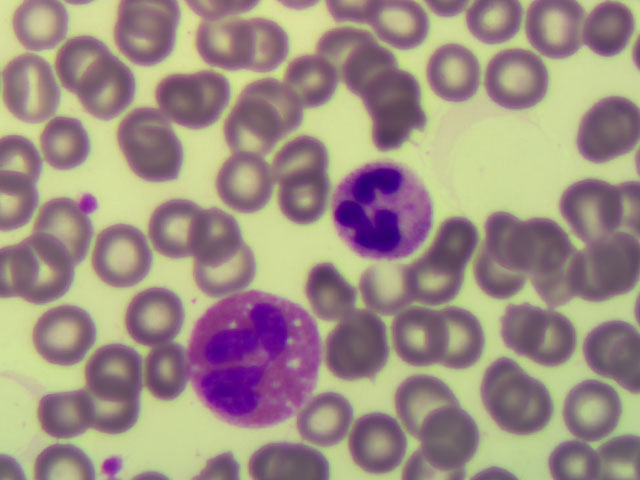Platelets: (96, 454, 130, 480), (79, 192, 103, 212)
RBC: (7, 60, 61, 111), (55, 30, 109, 81), (82, 70, 136, 121), (42, 116, 96, 167), (39, 203, 93, 254), (29, 229, 83, 280), (33, 302, 87, 353), (81, 341, 135, 392), (90, 378, 144, 429), (47, 385, 101, 436), (135, 350, 189, 401), (127, 285, 181, 336), (99, 229, 153, 280), (146, 203, 200, 254), (181, 208, 235, 259), (201, 241, 255, 292), (217, 160, 271, 211), (214, 113, 268, 164), (242, 79, 296, 130), (280, 51, 334, 102), (316, 18, 370, 69), (343, 36, 397, 87), (364, 63, 418, 114), (368, 103, 422, 154), (181, 79, 235, 130), (141, 64, 195, 115), (120, 106, 174, 157), (131, 134, 185, 185), (186, 22, 240, 73), (229, 12, 283, 63), (117, 13, 171, 64), (373, 1, 427, 52), (425, 46, 479, 97), (485, 54, 539, 105), (535, 2, 589, 53), (574, 1, 628, 52), (586, 100, 640, 151), (562, 176, 616, 227), (586, 227, 640, 278), (563, 257, 617, 308), (520, 254, 574, 305), (529, 217, 583, 268), (492, 213, 546, 264), (473, 252, 527, 303), (442, 212, 496, 263), (406, 251, 460, 302), (345, 263, 399, 314), (309, 263, 363, 314), (333, 317, 387, 368), (276, 168, 330, 219), (275, 133, 329, 184), (441, 305, 495, 356), (389, 308, 443, 359), (486, 298, 540, 349), (531, 313, 585, 364), (586, 317, 640, 368), (565, 381, 619, 432), (501, 379, 555, 430), (470, 358, 524, 409), (424, 410, 478, 461), (392, 373, 446, 424), (350, 421, 404, 472), (294, 395, 348, 446), (13, 1, 67, 51), (470, 1, 524, 51)
WBC: (186, 294, 321, 428), (337, 156, 430, 261)
